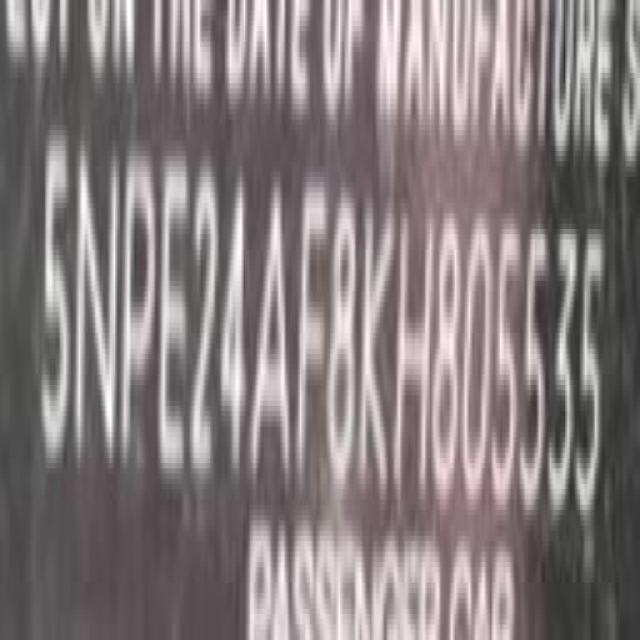0: (461, 223, 494, 512)
2: (189, 150, 219, 478)
3: (546, 224, 578, 522)
4: (220, 160, 248, 476)
5: (42, 139, 72, 478), (518, 233, 550, 526), (576, 232, 606, 520), (491, 231, 521, 513)
8: (429, 220, 462, 510), (327, 192, 357, 486)
A: (250, 173, 294, 480)
E: (157, 148, 188, 470)
F: (293, 170, 327, 495)
H: (393, 214, 434, 491)
K: (356, 202, 394, 490)
N: (73, 139, 120, 472)
P: (120, 138, 156, 460)
